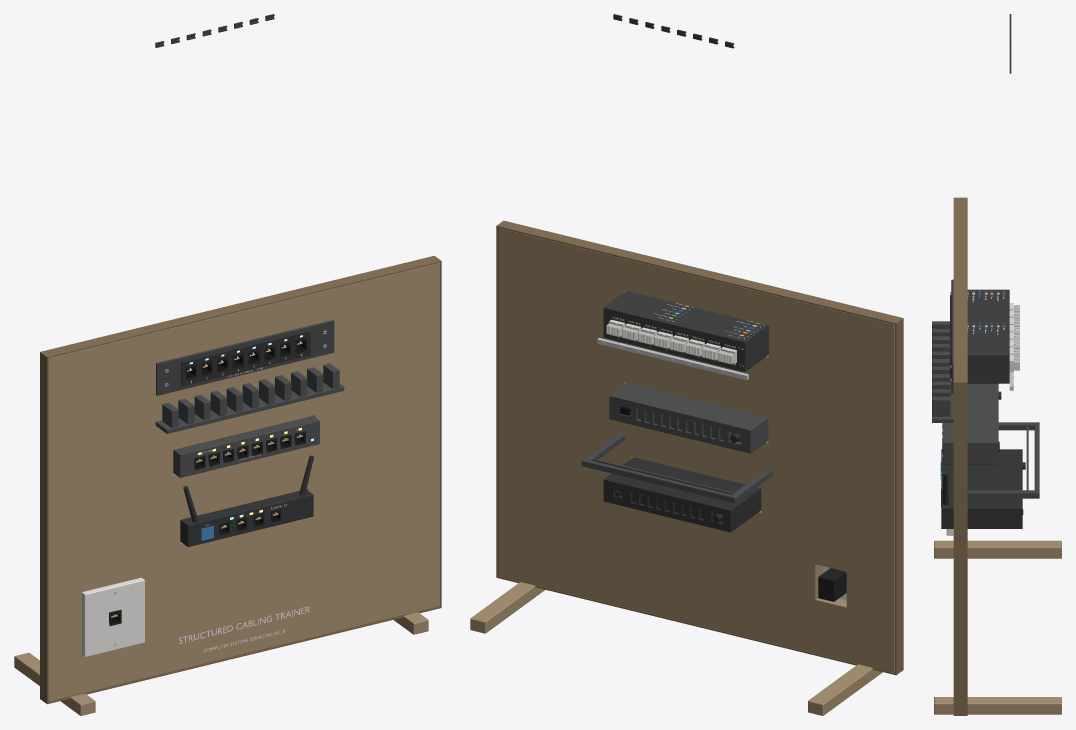
Rendered from StructuredCablingTrainer.fbx.
3 renders of one model, left to right at view 1: azimuth 30°, elevation 25°; view 2: azimuth 150°, elevation 25°; view 3: azimuth 270°, elevation 25°, orthographic. The views are drawn at different scales.
Parts seen in each view (by area): view 1: TrainingBoard_Panel, TrainingBoard_EdgeBand, CableManager, NetworkSwitch, WallOutlet, Router, Panel_Front, Panel_Bezel, TrainingBoard_FootL; view 2: TrainingBoard_Panel, TrainingBoard_EdgeBand, Housing_Main, NetworkSwitch, Router, CableRetainer, TrainingBoard_FootR, TrainingBoard_FootL, PanelGroundBar, OutletKeystoneBody; view 3: TrainingBoard_EdgeBand, Router, Housing_Main, NetworkSwitch, TrainingBoard_FootL, TrainingBoard_FootR, CableManager, CableRetainer, Panel_Front.
Part boxes in pixels (x1=…): TrainingBoard_Panel: x1=48, y1=263, x2=439, y2=701; TrainingBoard_EdgeBand: x1=40, y1=255, x2=441, y2=704; CableManager: x1=155, y1=363, x2=344, y2=433; NetworkSwitch: x1=173, y1=416, x2=319, y2=477; WallOutlet: x1=81, y1=577, x2=144, y2=657; Router: x1=180, y1=489, x2=313, y2=546; Panel_Front: x1=156, y1=320, x2=334, y2=395; Panel_Bezel: x1=181, y1=330, x2=310, y2=386; TrainingBoard_FootL: x1=14, y1=652, x2=95, y2=715; TrainingBoard_Panel: x1=498, y1=228, x2=894, y2=672; TrainingBoard_EdgeBand: x1=496, y1=220, x2=903, y2=675; Housing_Main: x1=603, y1=291, x2=768, y2=371; NetworkSwitch: x1=609, y1=383, x2=768, y2=453; Router: x1=603, y1=457, x2=761, y2=532; CableRetainer: x1=581, y1=433, x2=772, y2=503; TrainingBoard_FootR: x1=470, y1=582, x2=544, y2=633; TrainingBoard_FootL: x1=808, y1=664, x2=882, y2=715; PanelGroundBar: x1=597, y1=338, x2=748, y2=380; OutletKeystoneBody: x1=818, y1=568, x2=846, y2=601; TrainingBoard_EdgeBand: x1=953, y1=197, x2=967, y2=715; Router: x1=941, y1=449, x2=1022, y2=528; Housing_Main: x1=967, y1=289, x2=1009, y2=383; NetworkSwitch: x1=942, y1=383, x2=998, y2=464; TrainingBoard_FootL: x1=934, y1=540, x2=1061, y2=558; TrainingBoard_FootR: x1=934, y1=697, x2=1061, y2=714; CableManager: x1=932, y1=321, x2=953, y2=422; CableRetainer: x1=967, y1=422, x2=1039, y2=498; Panel_Front: x1=951, y1=279, x2=953, y2=393.
Size of the model in its own units: 56.4 by 84.14 by 16.75.
